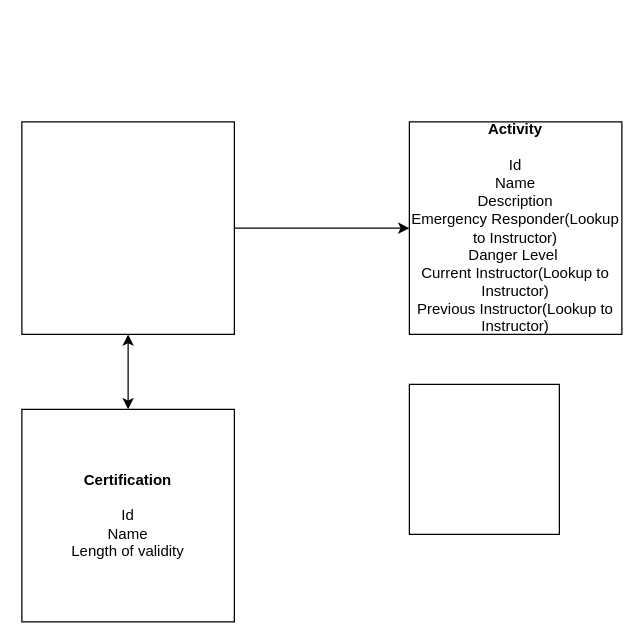
This 644x644 diagram has some shape labels left out. Each missing label, with the box of its shape:
Danger Level: (408, 383, 559, 534)
Instructor Id First Name Last Name Phone Email Full Name: (21, 121, 234, 334)
